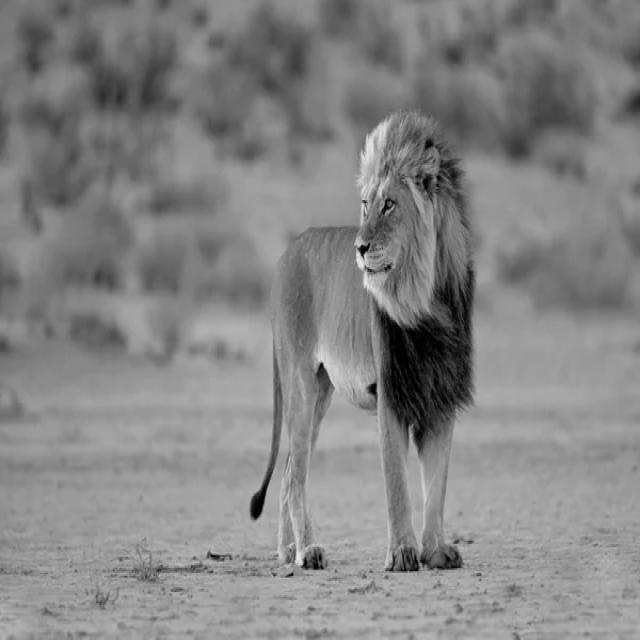Animal: (243, 110, 481, 571)
